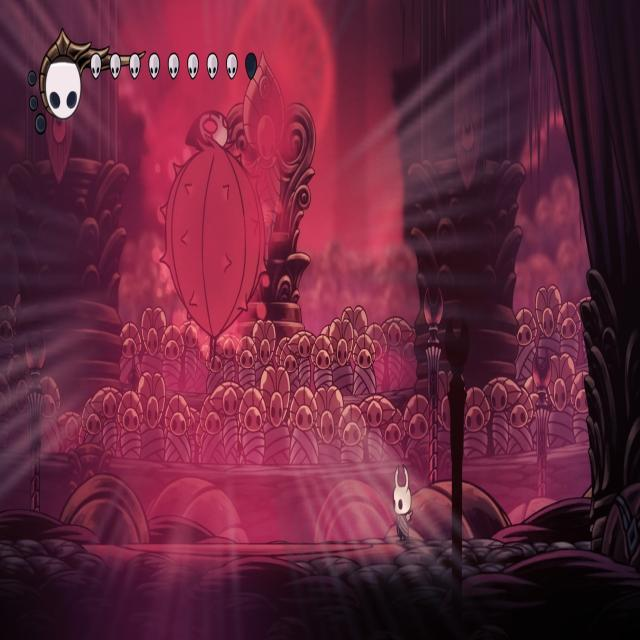Player: (390, 461, 416, 542)
Pufferfish: (154, 102, 271, 372)
